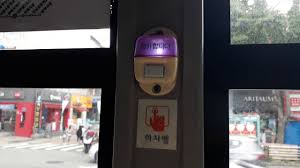bell: (132, 28, 182, 99)
